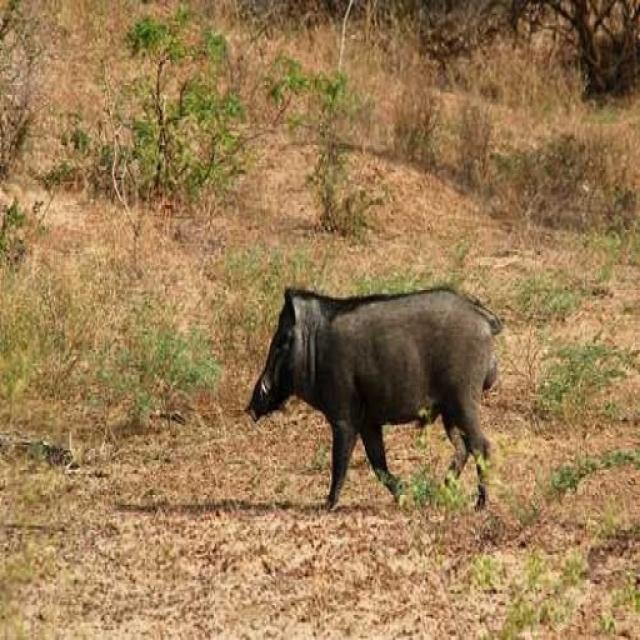pig: (240, 240, 612, 527)
